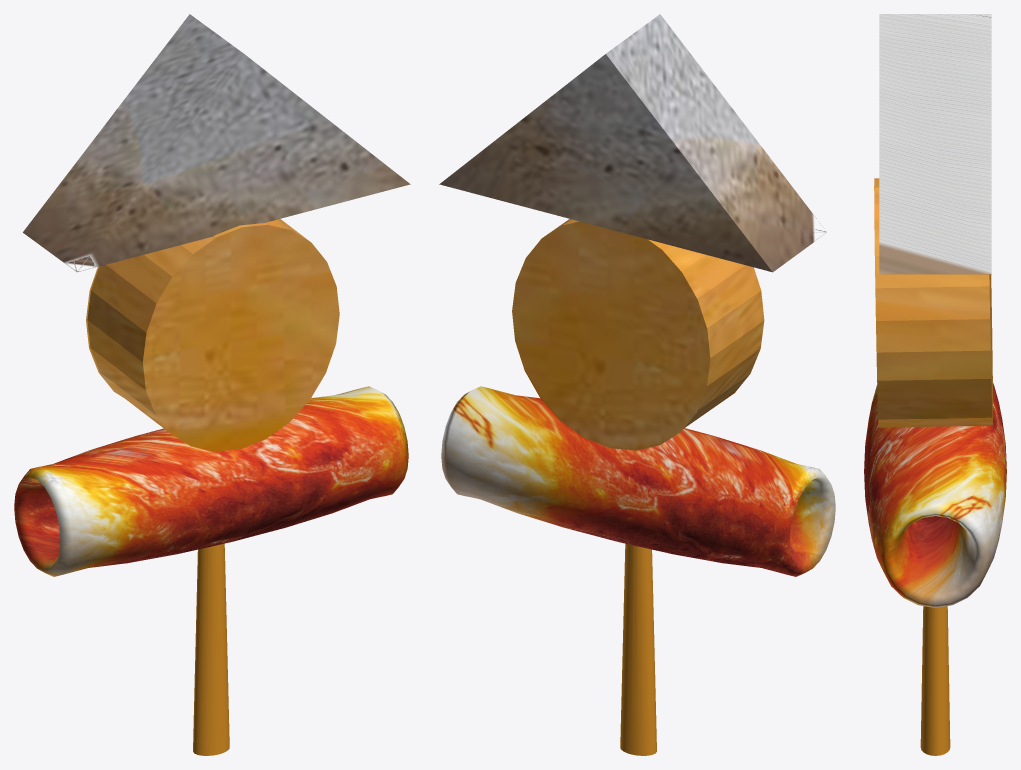
File: Oden.fbx
3 renders of one model, left to right at view 1: azimuth 30°, elevation 25°; view 2: azimuth 150°, elevation 25°; view 3: azimuth 270°, elevation 25°, orthographic. The views are drawn at different scales.
Parts seen in each view (by area): view 1: pCube2; view 2: pCube2; view 3: pCube2.
Part boxes in pixels (box(x1,y1,x2,y2)): pCube2: box(14, 14, 410, 755); pCube2: box(439, 14, 835, 755); pCube2: box(864, 14, 1006, 755).
Size of the model in its own units: 0.2512 by 0.4919 by 0.0865.
Materials: 1 (1 with a texture image).
